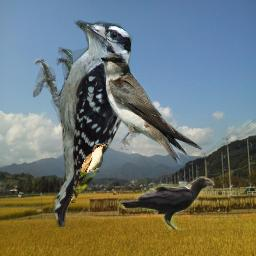Crow: (119, 177, 215, 230)
Cuckoo: (68, 142, 109, 204)
Swallow: (100, 53, 202, 165)
Woodpecker: (33, 18, 145, 227)
